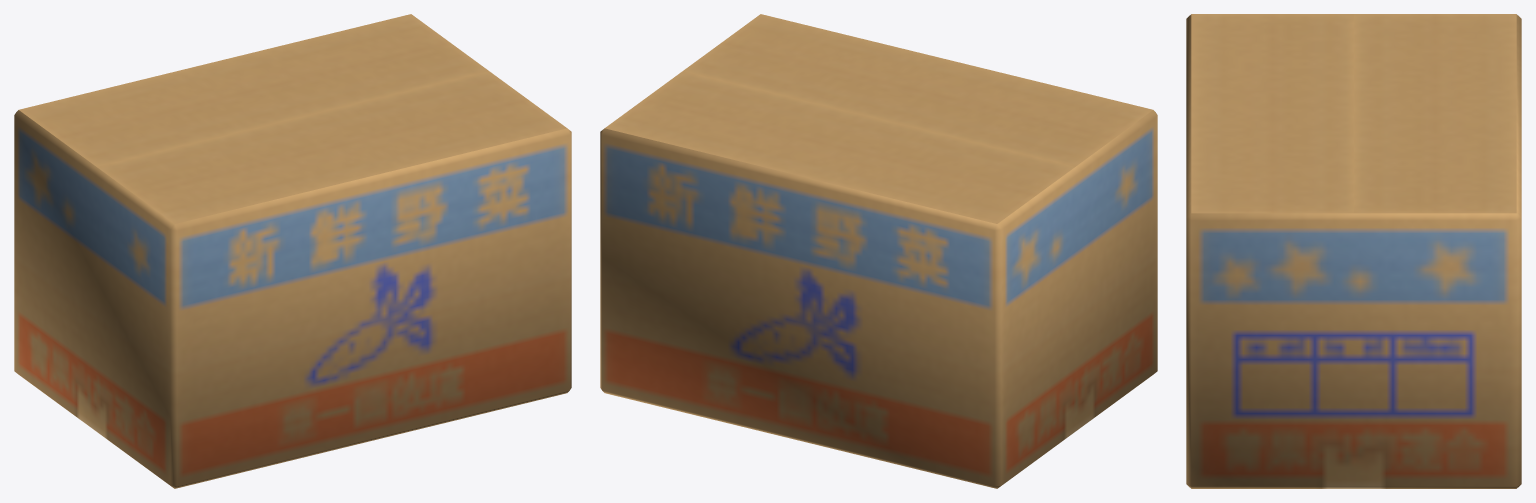
The model's file is KR_Cardboard_01_02.fbx.
3 views of the same model, side by side, from view 1: azimuth 30°, elevation 25°; view 2: azimuth 150°, elevation 25°; view 3: azimuth 270°, elevation 25° (orthographic). The views are drawn at different scales.
Parts seen in each view (by area): view 1: body01, huta01, huta02; view 2: body01, huta02, huta01; view 3: body01, huta01, huta02.
Part boxes in pixels (x1=…): body01: x1=14, y1=110, x2=571, y2=488; huta01: x1=97, y1=71, x2=566, y2=223; huta02: x1=19, y1=14, x2=488, y2=166; body01: x1=600, y1=110, x2=1157, y2=488; huta02: x1=605, y1=71, x2=1074, y2=223; huta01: x1=683, y1=14, x2=1152, y2=166; body01: x1=1186, y1=14, x2=1521, y2=488; huta01: x1=1191, y1=14, x2=1353, y2=213; huta02: x1=1354, y1=14, x2=1516, y2=213.
Size of the model in its own units: 46 by 29 by 32.
